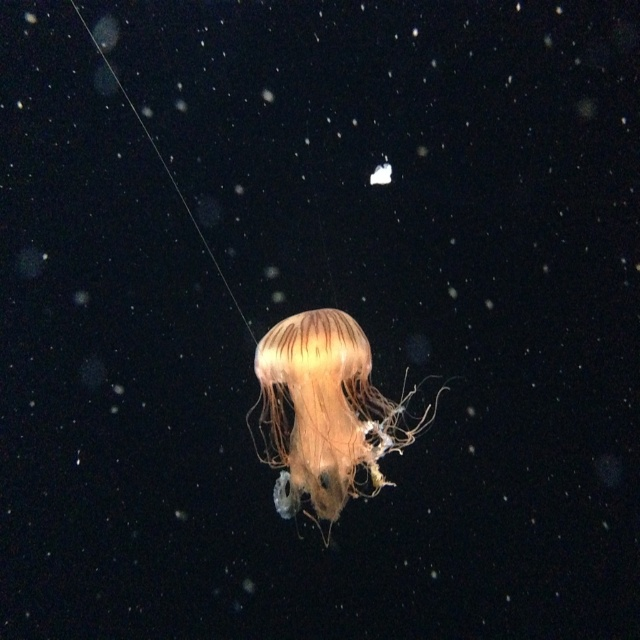Jellyfish: (238, 311, 447, 546)
